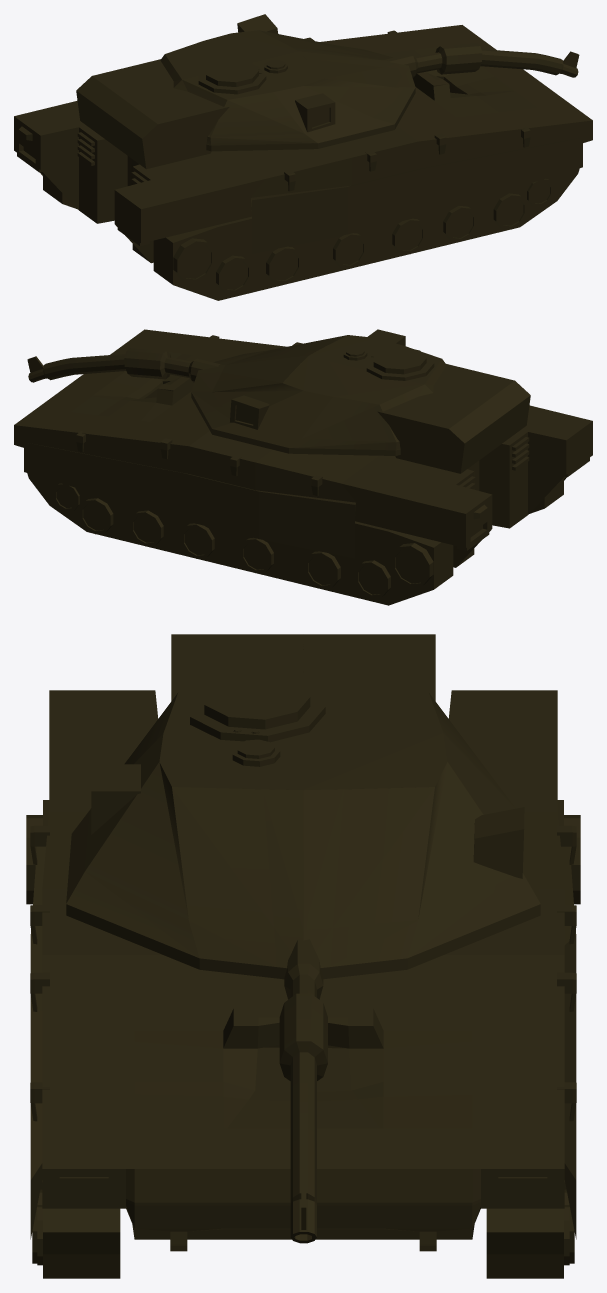
File: merkava_tank_wreckage.FBX
The picture shows the model from 3 angles, top to bottom: view 1: azimuth 30°, elevation 25°; view 2: azimuth 150°, elevation 25°; view 3: azimuth 270°, elevation 25°; orthographic projection. The views are drawn at different scales.
Visible parts, largest first — view 1: Cube, Circle, Cube.001, Cylinder; view 2: Cube, Circle, Cube.001, Cylinder; view 3: Cube, Circle, Cube.001, Cylinder.
Part boxes in pixels (left/top/right/bottom): Cube: left=14, top=25, right=592, bottom=263; Circle: left=76, top=14, right=415, bottom=169; Cube.001: left=40, top=168, right=579, bottom=300; Cylinder: left=386, top=43, right=579, bottom=77; Cube: left=14, top=329, right=592, bottom=567; Circle: left=191, top=329, right=530, bottom=473; Cube.001: left=27, top=473, right=566, bottom=605; Cylinder: left=27, top=348, right=220, bottom=382; Cube: left=30, top=690, right=576, bottom=1251; Circle: left=66, top=634, right=540, bottom=979; Cube.001: left=26, top=800, right=580, bottom=1278; Cylinder: left=279, top=939, right=327, bottom=1243.
Size of the model in its own units: 393 by 130 by 187.
